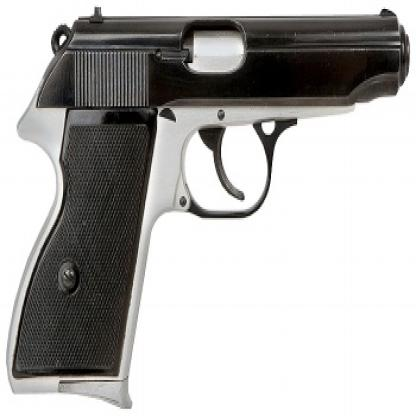Guns: (5, 0, 415, 414)
